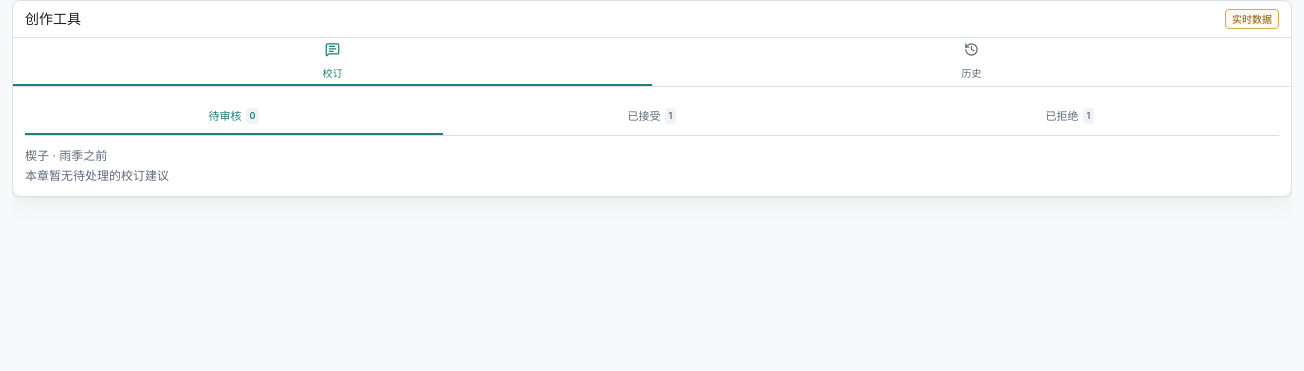
Test case: ForumPanels › 编辑页右栏通过状态 Tab 查看已接受和已拒绝记录
This screenshot has width=1304, height=371.
Expected: the tab "待审核 0" is shown, [25, 99, 443, 135]
Click the tab "已接受 1".
click(652, 117)  # box [443, 99, 861, 135]
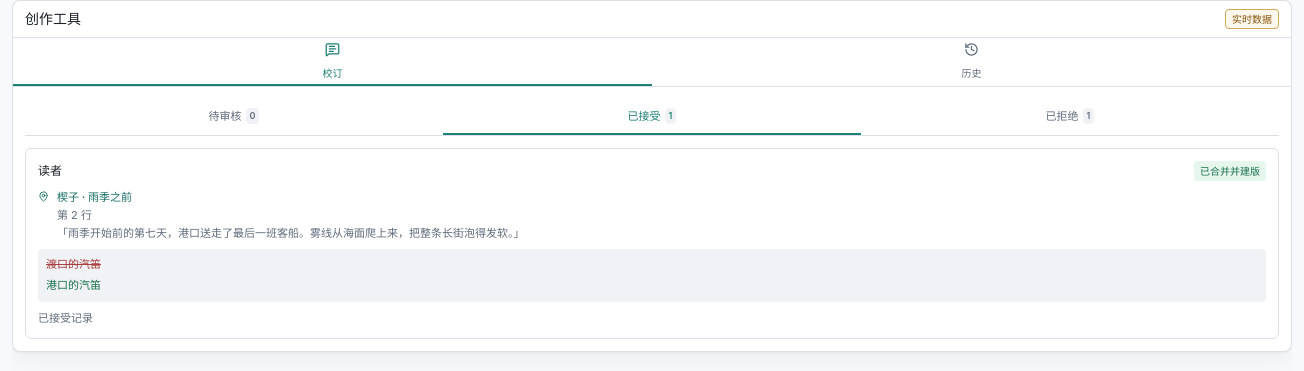
Expected: the text "已拒绝记录" is not shown
Expected: the text "已接受记录" is shown, [38, 311, 93, 325]
Click the tab "已拒绝 1".
click(1070, 117)  # box [861, 99, 1279, 135]
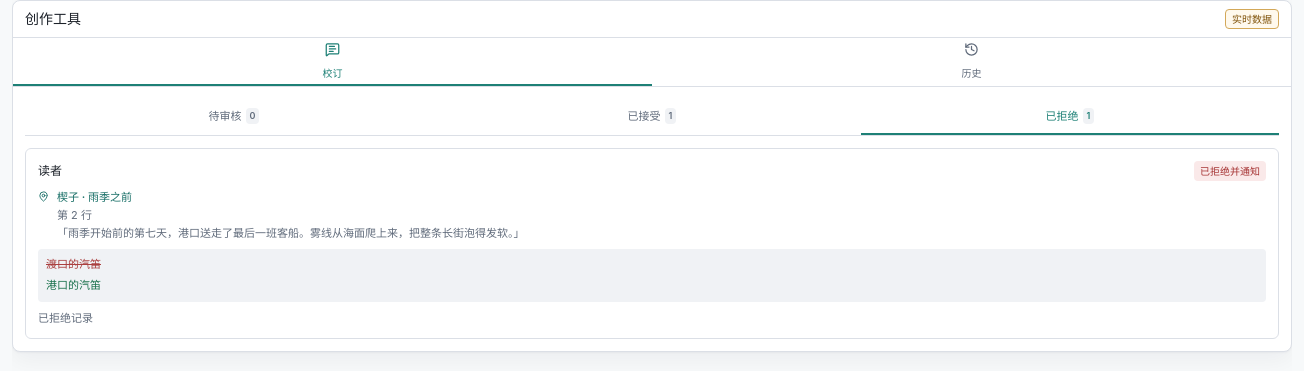
Expected: the text "已拒绝记录" is shown, [38, 311, 93, 325]
Expected: the text "已接受记录" is gone
